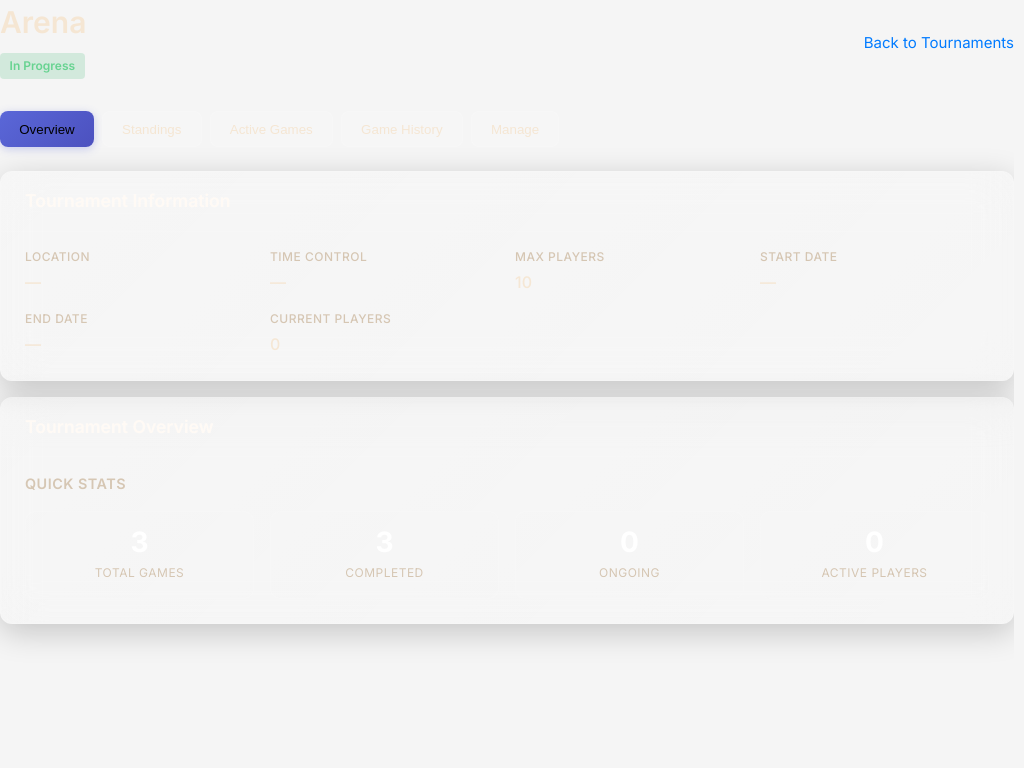
Test case: detail history lists the latest results first and corrects a recorded result
The width and height of the screenshot is (1024, 768).
Click the button "Game History". click: (402, 129)
box: [341,111,463,147]
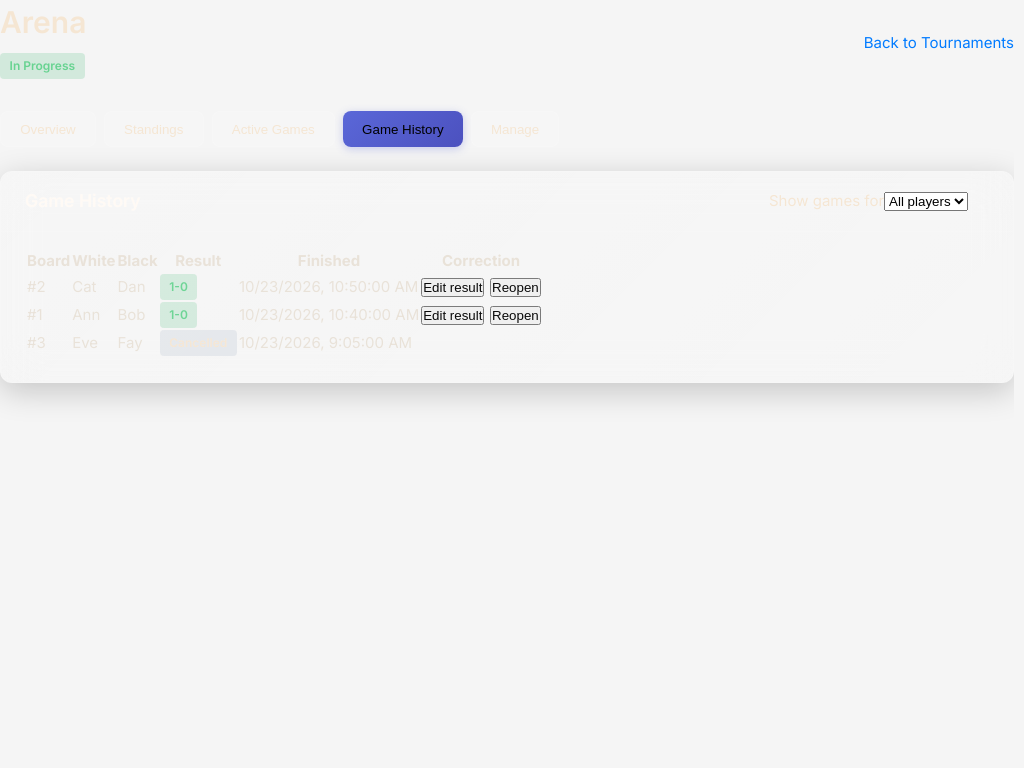
Now the number of buttons "Edit result" is 2
Click the button "Edit result" in the row of "#1". click: (453, 315)
box: [421,306,484,325]
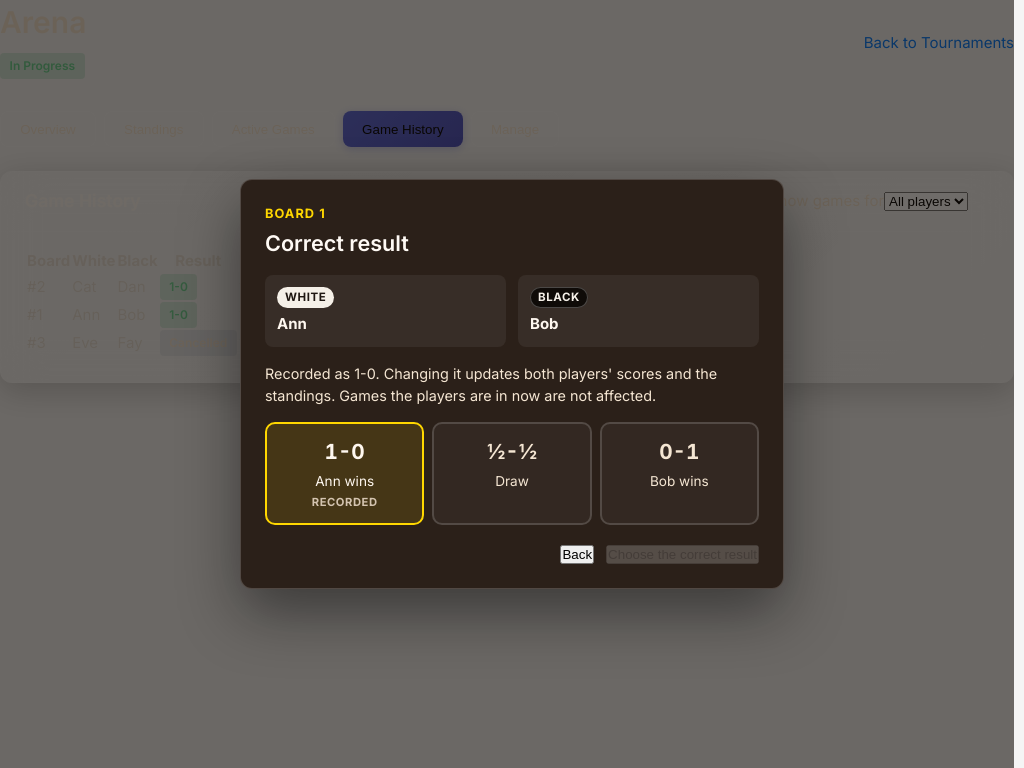
Now the dialog "Correct result" shows "Board 1", box [265,206,326,221]
Click the button "0-1 Bob wins". click: (679, 474)
box: [600,422,759,525]
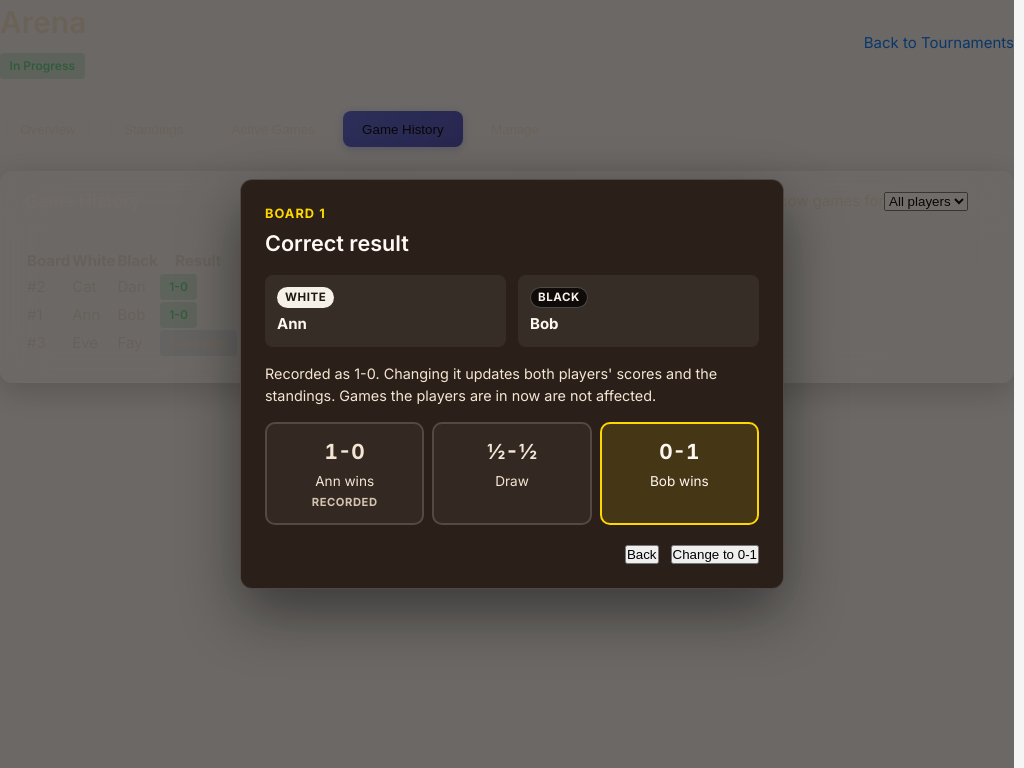
Click the button "Change to 0-1". click: (715, 555)
box: [670,545,759,564]
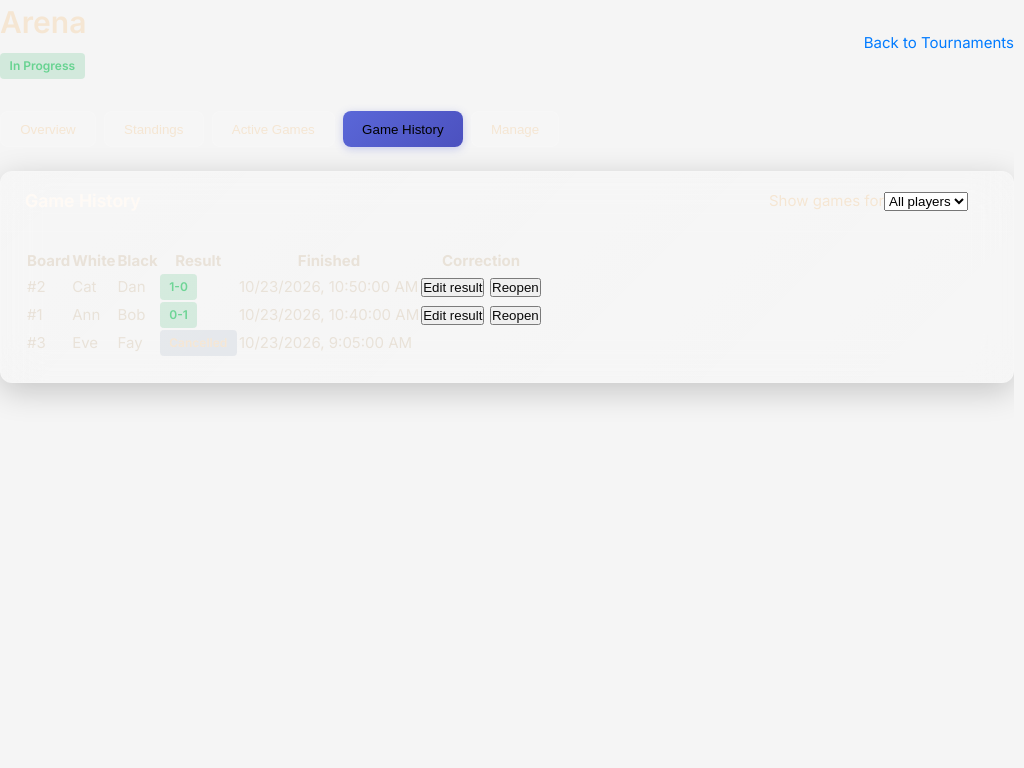
Now the dialog is gone
Now the text "0-1" is shown, box [160,302,198,328]
